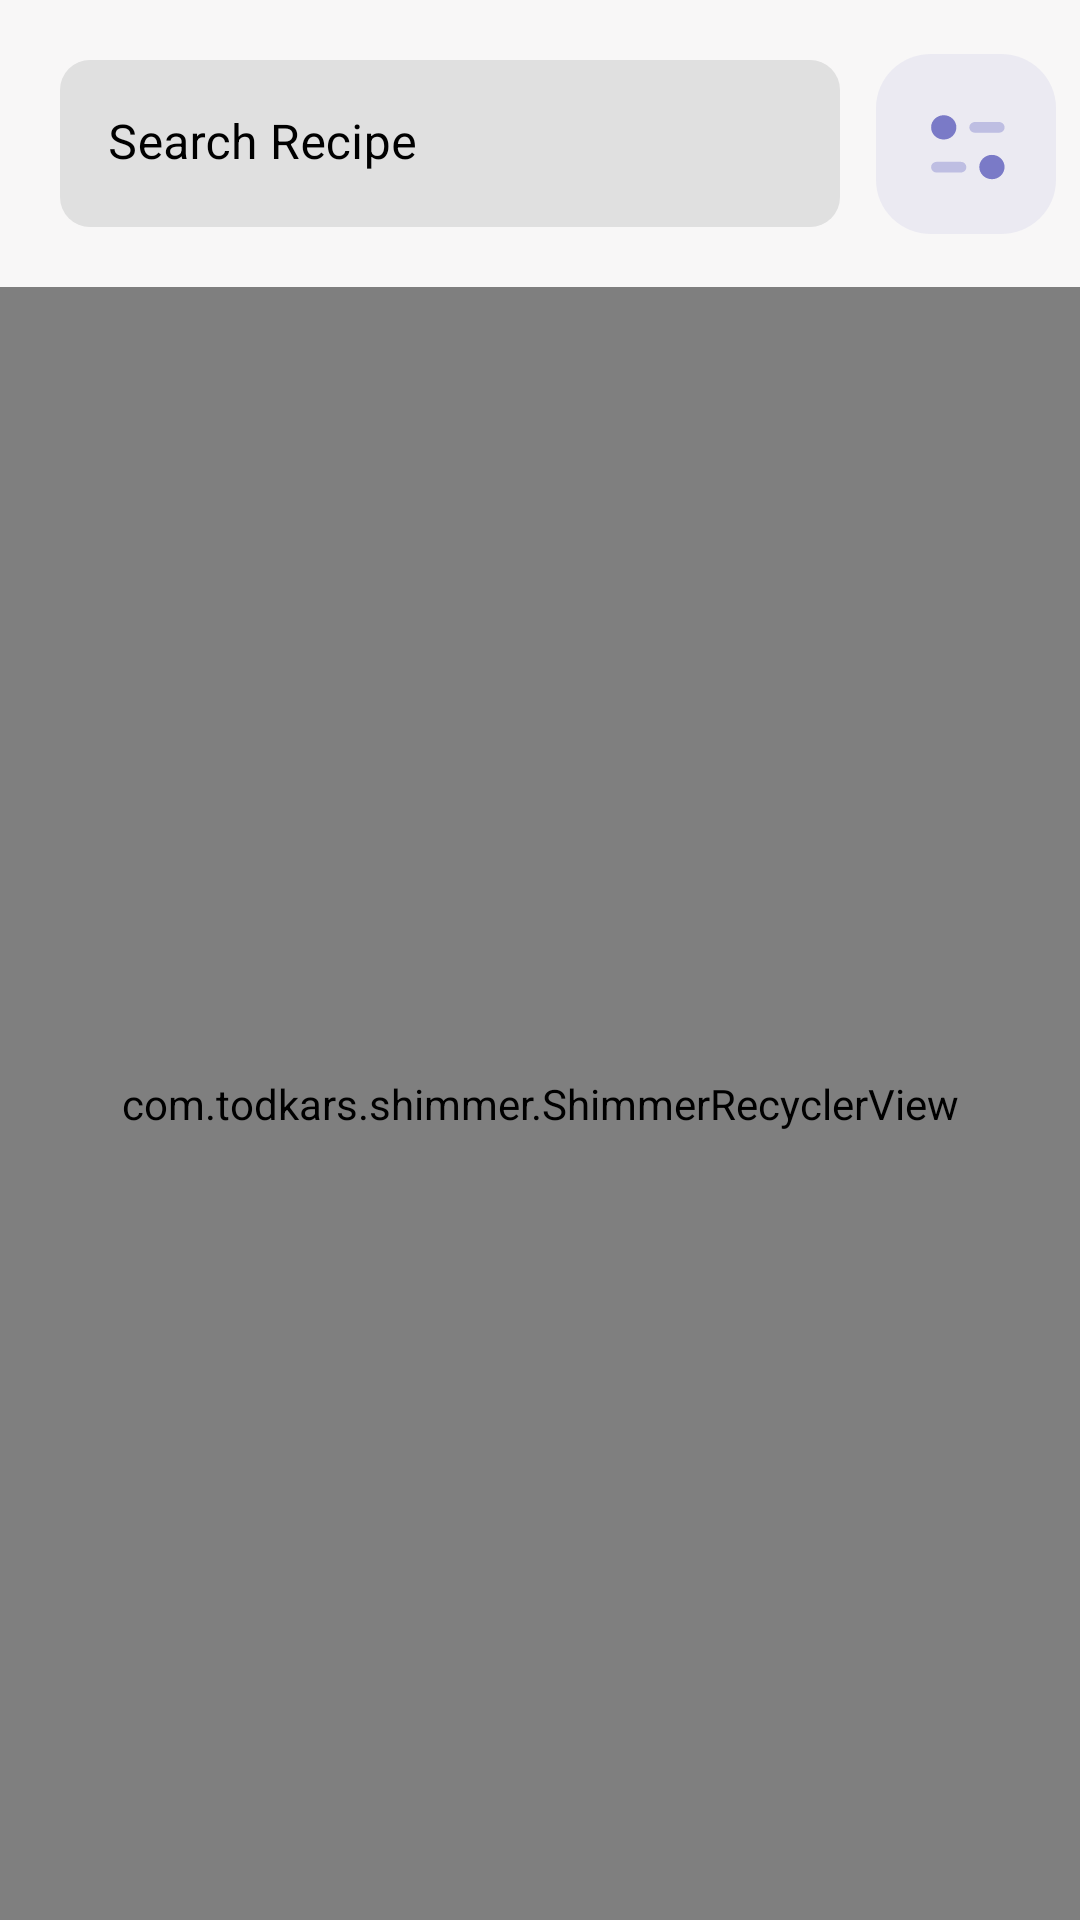

Point at icon controls on the screen. Image size 1080x1920, points as point (x, y).
filtericon: point (966, 144)
